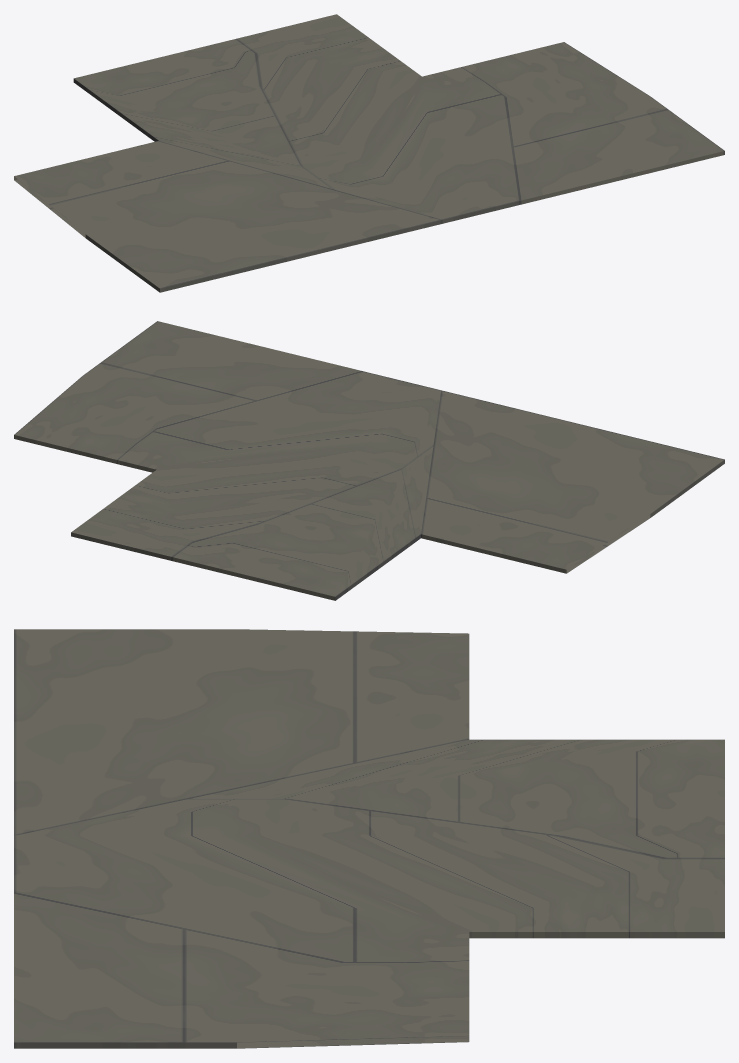
The model's file is ThirdFloor.fbx.
3 renders of one model, top to bottom at view 1: azimuth 30°, elevation 25°; view 2: azimuth 150°, elevation 25°; view 3: azimuth 270°, elevation 25°, orthographic. The views are drawn at different scales.
Visible parts, largest first — view 1: FactoryFloorP3; view 2: FactoryFloorP3; view 3: FactoryFloorP3.
Boxes of the visible parts, <box> form: FactoryFloorP3: <box>14,14,724,292</box>; FactoryFloorP3: <box>14,321,724,600</box>; FactoryFloorP3: <box>14,629,724,1048</box>.
Bounding box in the file's own units: 73.52 × 0.5016 × 53.44.
